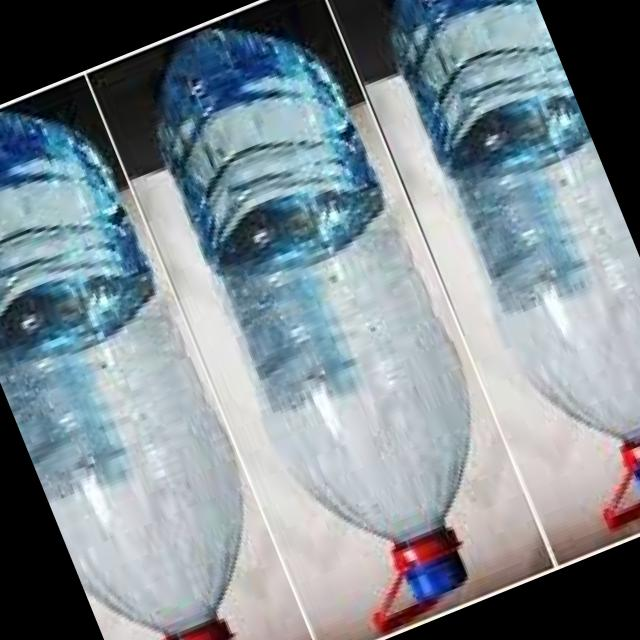Galon: (119, 0, 548, 640), (0, 77, 321, 640), (356, 0, 640, 545)
